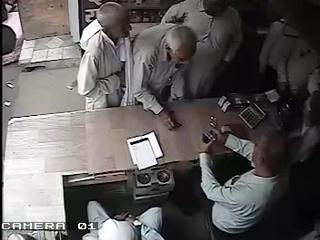Normal: (198, 123, 290, 240), (120, 24, 198, 131), (185, 0, 243, 100), (82, 200, 166, 240), (160, 0, 210, 41)
shoplifting: (76, 1, 132, 111)
